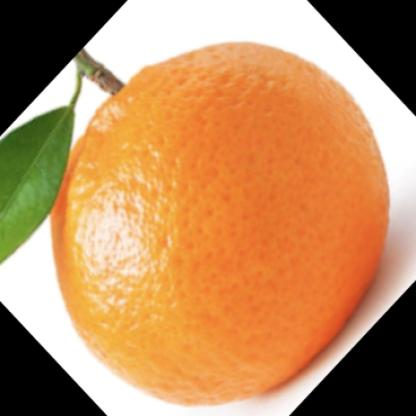fresh: (45, 38, 392, 414)
